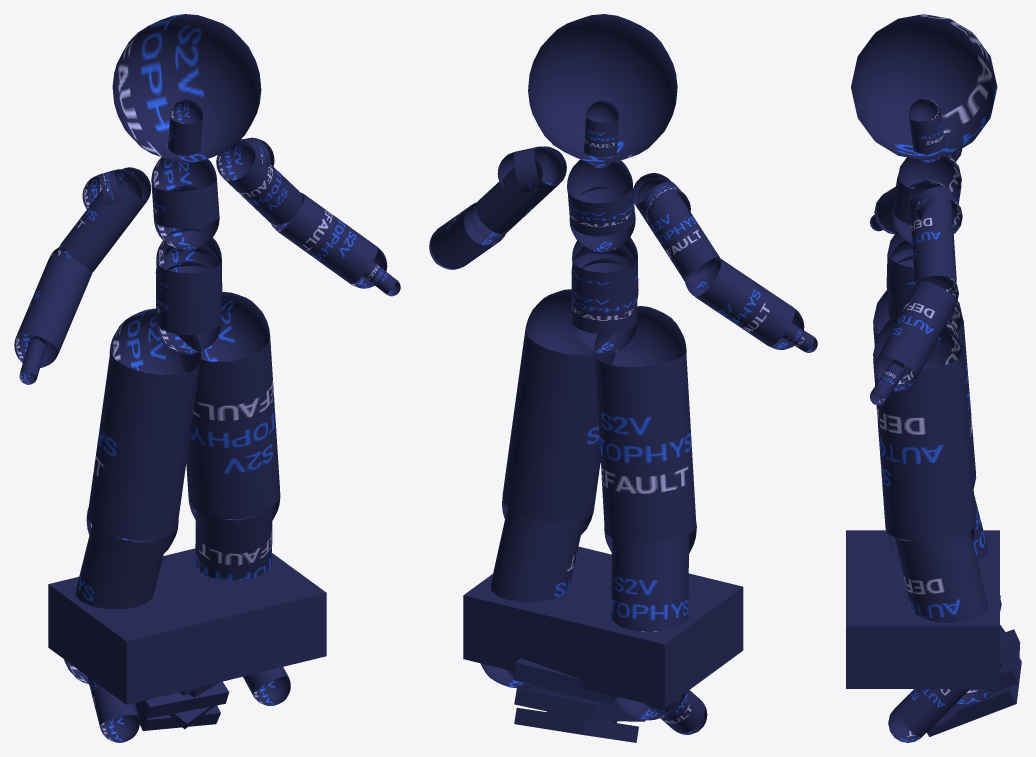
The model's file is bookworm_physics.gltf.
The picture shows the model from 3 angles, left to right: view 1: azimuth 30°, elevation 25°; view 2: azimuth 150°, elevation 25°; view 3: azimuth 270°, elevation 25°; orthographic projection. The views are drawn at different scales.
Visible parts, largest first — view 1: physics_group; view 2: physics_group; view 3: physics_group.
Boxes of the visible parts, x1,y1,x2,y2 form: physics_group: (14,14,400,742); physics_group: (429,14,817,742); physics_group: (846,14,1021,742).
Size of the model in its own units: 1.24 by 2.23 by 0.5066.
Materials: 1 (1 with a texture image).
